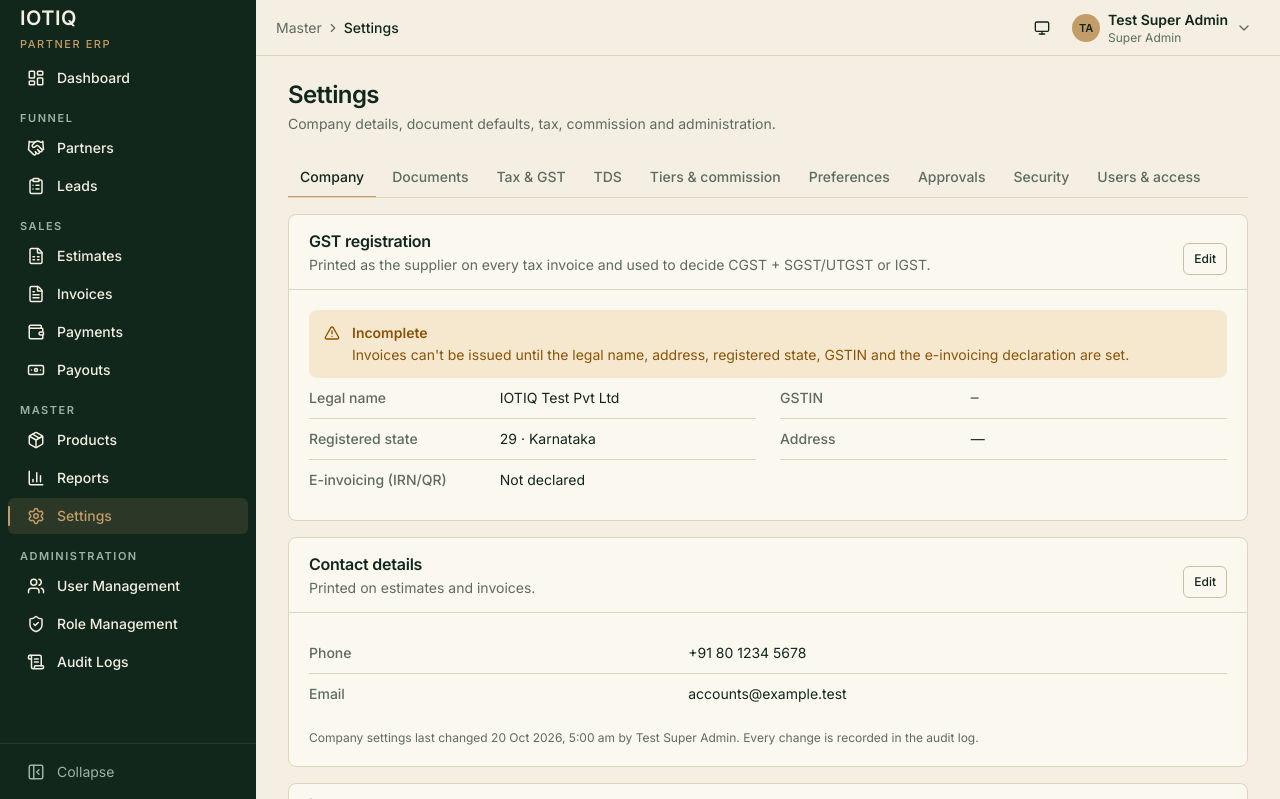
Test: settings and administration › validates company details before saving and sends the whole record with its version
Later steps or results of the test are not shown.
Click the button with aria-label "Edit contact details".
click(1205, 582)  # box [1183, 566, 1227, 598]
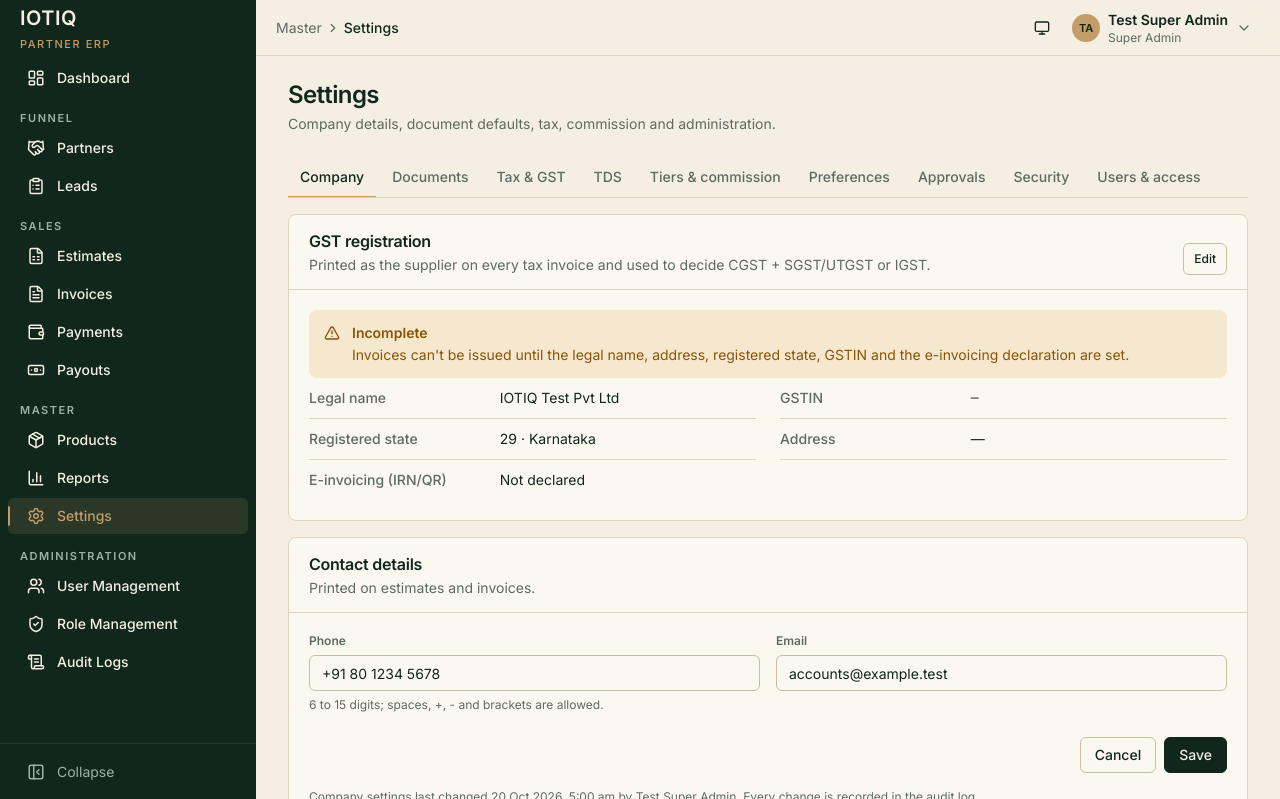
Replace the text in the field labelled "Email" with "not-an-email" at (1002, 673), box [776, 655, 1227, 691]
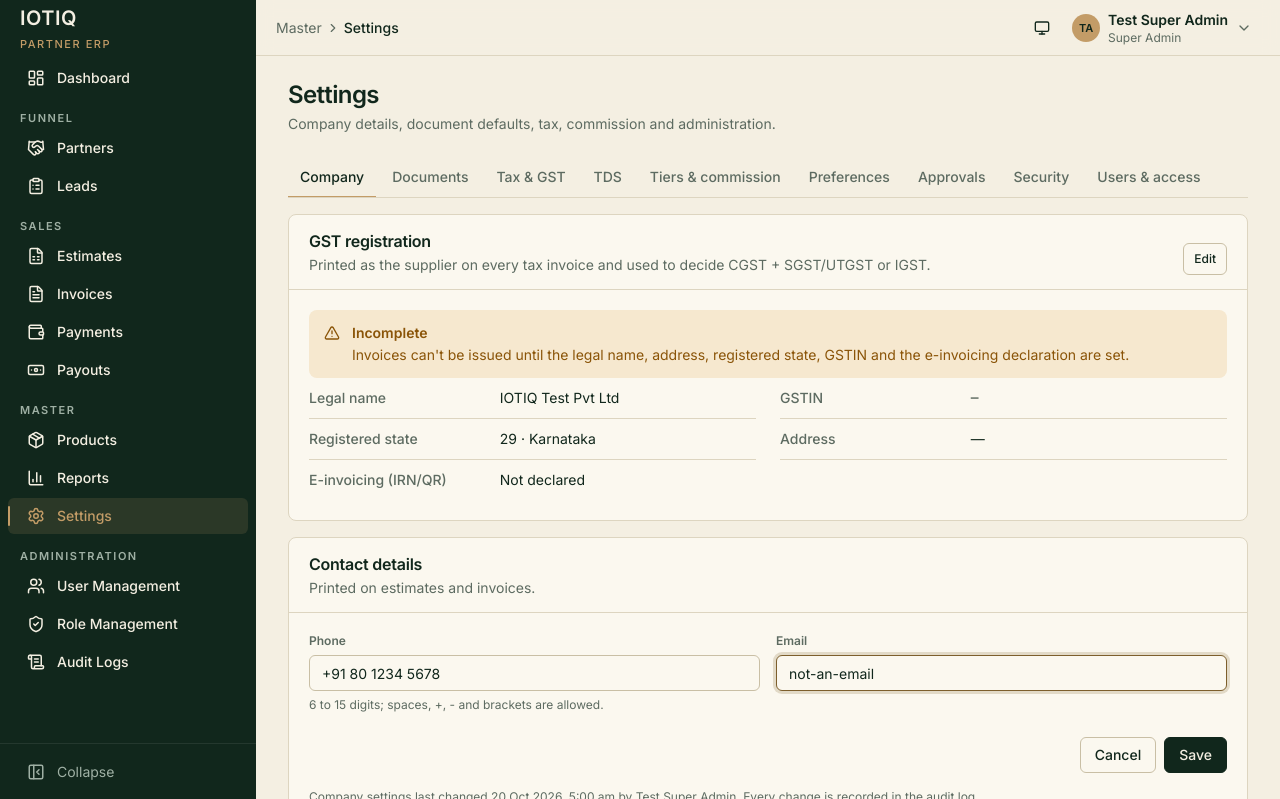
Click the button "Save".
click(1196, 755)  # box [1164, 737, 1227, 773]
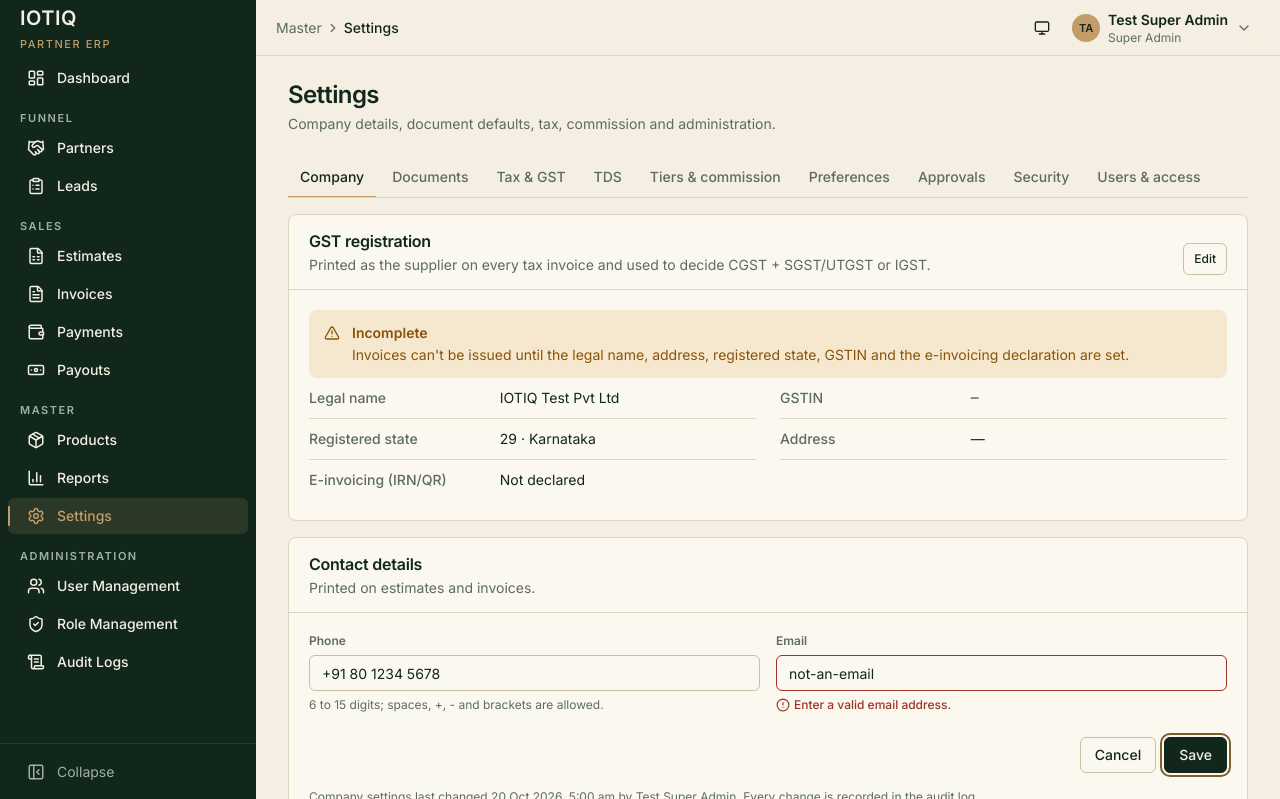
Now the text "Enter a valid email address." is shown, box [776, 697, 951, 712]
